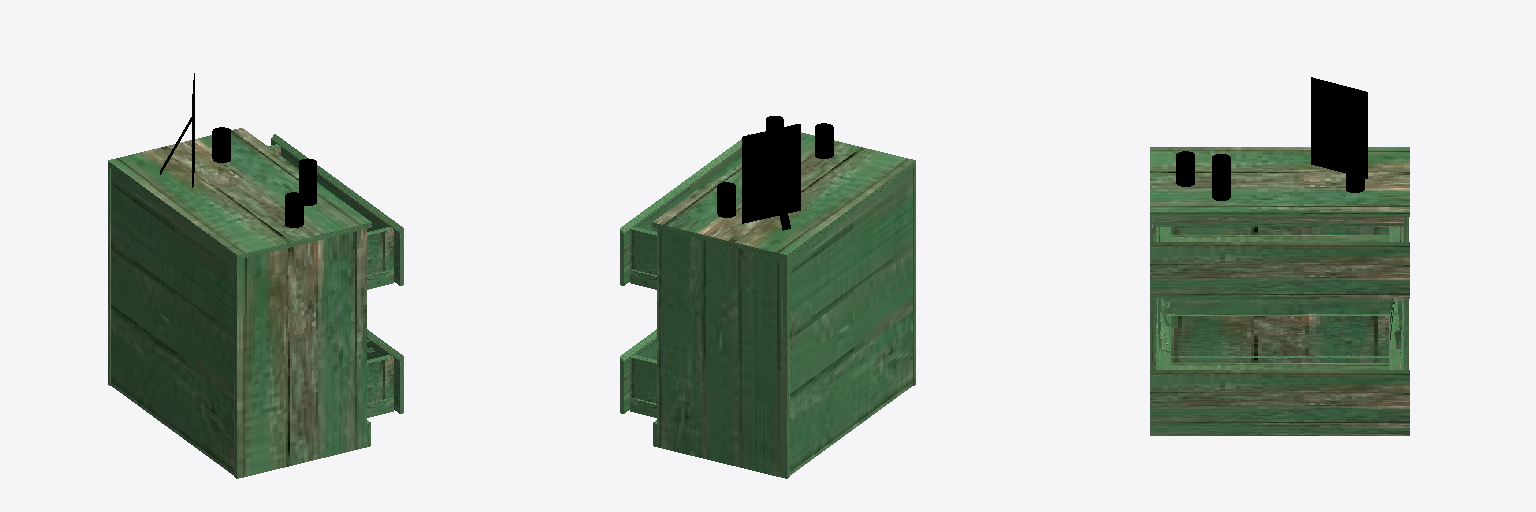
3 renders of one model, left to right at view 1: azimuth 30°, elevation 25°; view 2: azimuth 150°, elevation 25°; view 3: azimuth 270°, elevation 25°, orthographic.
Parts seen in each view (by area): view 1: Malm:Mesh, Candle_sticks_and_vase:Cylinder001, Cylinder001, Cylinder002; view 2: Malm:Mesh, frame1:noga, Cylinder001, Cylinder002; view 3: Malm:Mesh, frame1:noga, Candle_sticks_and_vase:Cylinder001, Cylinder002, Cylinder001.
Part boxes in pixels (x1,y1,x2,y2): Malm:Mesh: (108,128,403,478); Candle_sticks_and_vase:Cylinder001: (299,158,316,205); Cylinder001: (212,127,230,162); Cylinder002: (285,192,303,227); Malm:Mesh: (620,132,915,478); frame1:noga: (742,124,800,230); Cylinder001: (717,182,735,217); Cylinder002: (815,123,833,158); Malm:Mesh: (1150,147,1409,435); frame1:noga: (1311,77,1367,178); Candle_sticks_and_vase:Cylinder001: (1212,154,1230,200); Cylinder002: (1176,151,1194,186); Cylinder001: (1346,157,1364,192).
Bounding box in the file's own units: 1.19 × 2.12 × 1.6.
Materials: 4 (1 with a texture image).